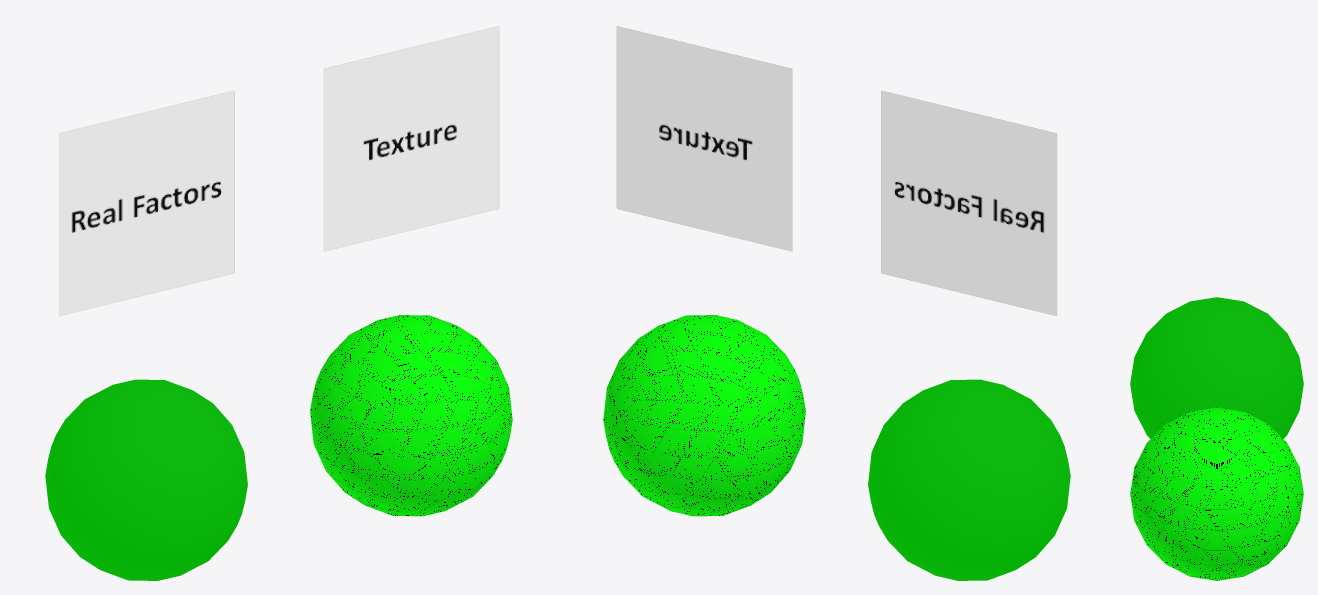
File: TextureLinearInterpolationTestLOD.glb
3 views of the same model, side by side, from view 1: azimuth 30°, elevation 25°; view 2: azimuth 150°, elevation 25°; view 3: azimuth 270°, elevation 25° (orthographic). The views are drawn at different scales.
Size of the model in its own units: 6 by 5 by 2.
3 materials, 2 textured.
